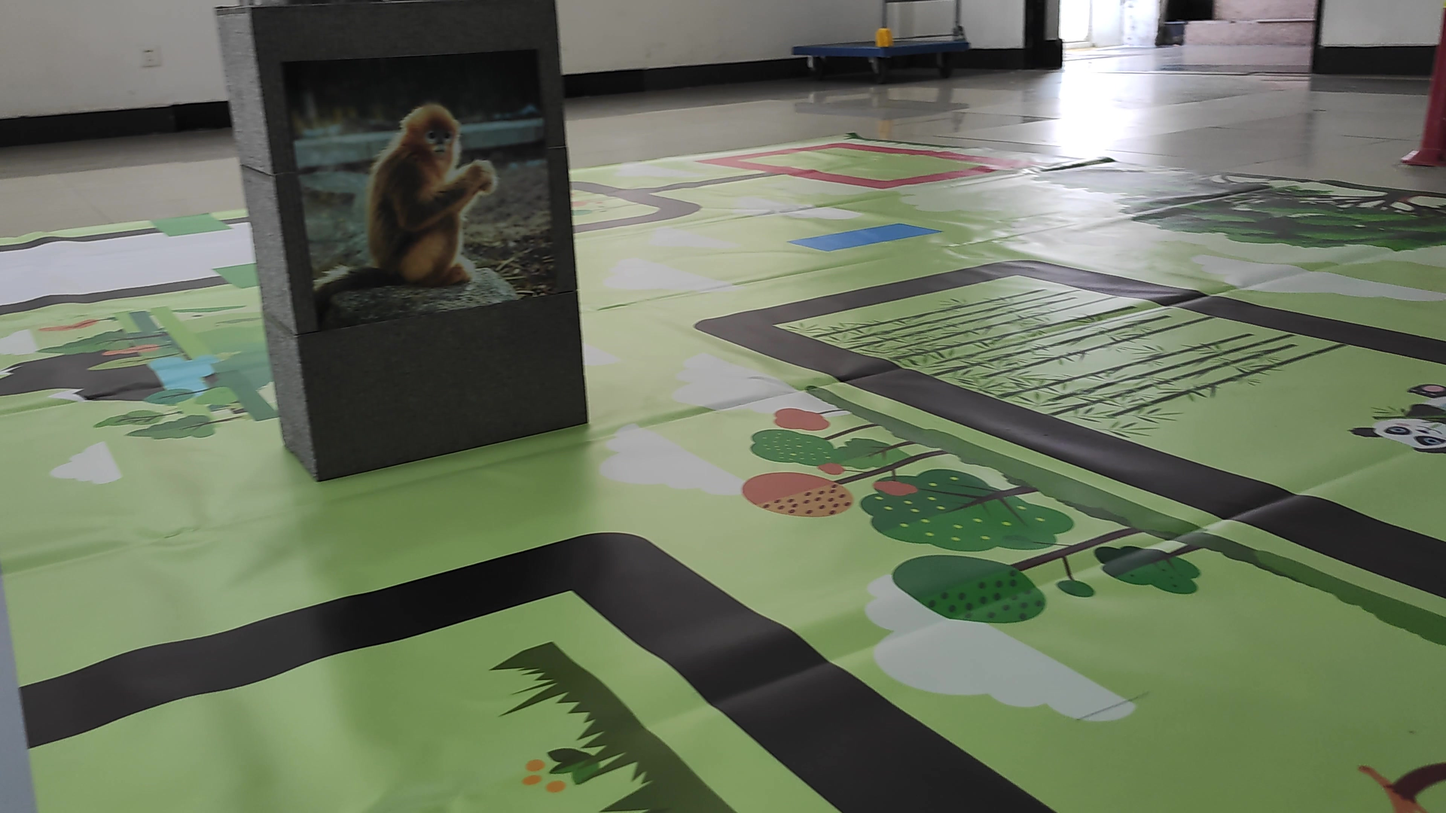monkey: (304, 80, 523, 318)
